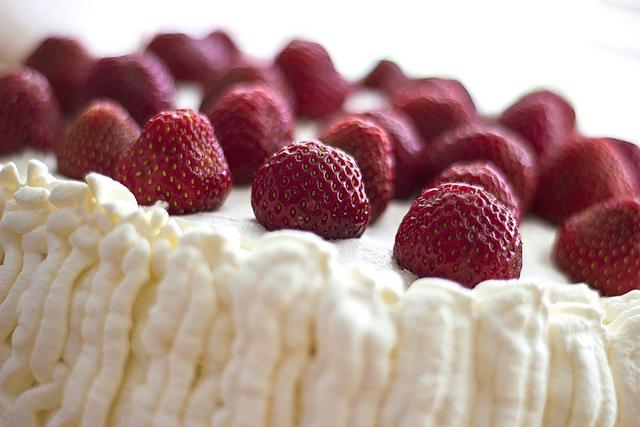strawberry: (392, 183, 522, 290), (116, 107, 232, 216), (250, 139, 370, 241), (420, 123, 539, 212), (202, 81, 294, 184), (533, 138, 633, 227), (318, 118, 396, 227), (555, 198, 640, 297), (410, 158, 524, 229), (84, 48, 178, 130), (344, 110, 426, 200), (56, 104, 142, 182), (0, 63, 69, 158), (26, 37, 100, 120), (276, 39, 348, 122), (394, 81, 474, 148), (501, 102, 566, 164), (502, 90, 575, 142), (243, 54, 300, 117), (148, 33, 212, 82), (591, 138, 640, 196), (198, 32, 244, 78), (360, 61, 410, 96)
